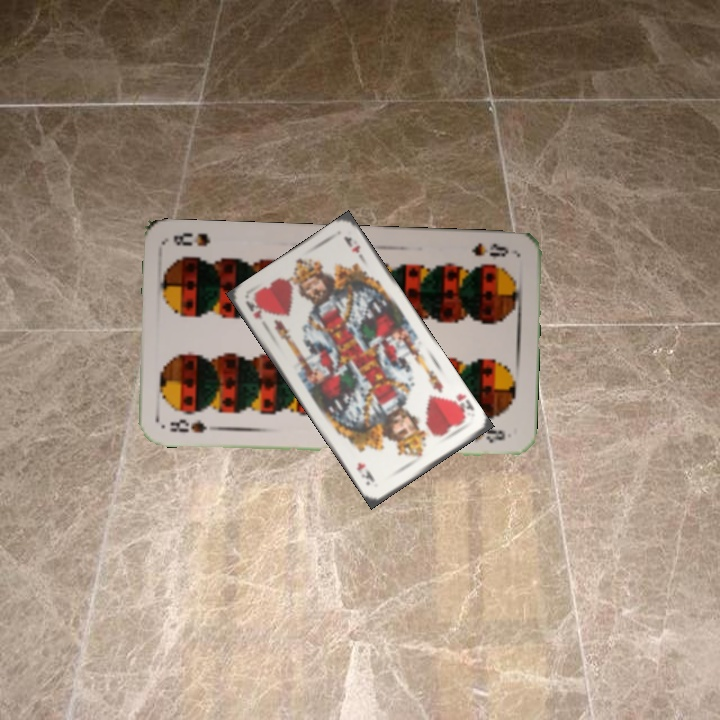HK: (447, 389, 477, 422), (242, 294, 265, 322)
S8: (165, 415, 220, 436), (468, 239, 511, 259)
